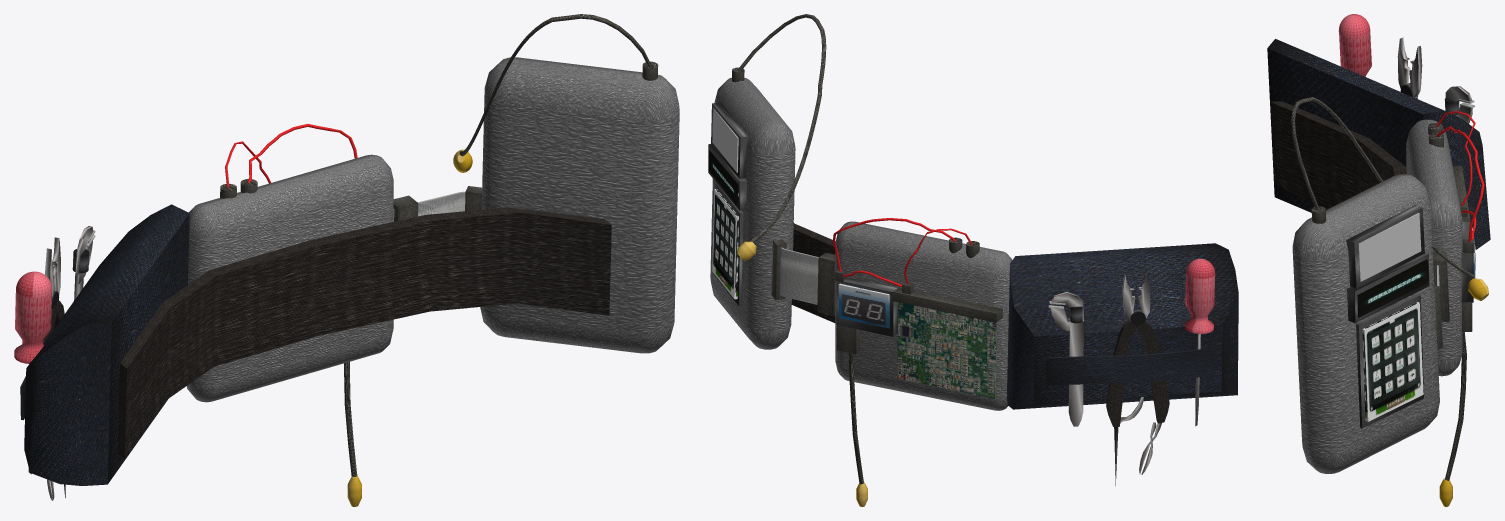
File: defkit.FBX
3 renders of one model, left to right at view 1: azimuth 30°, elevation 25°; view 2: azimuth 150°, elevation 25°; view 3: azimuth 270°, elevation 25°, orthographic. The views are drawn at different scales.
Visible parts, largest first — view 1: Box12, ChamferBox01, Box01, ChamferBox02, Cylinder01, Torus Knot01, Box11, Torus Knot03; view 2: Box01, ChamferBox02, ChamferBox01, Box02, Box25, Box08, Cylinder01, Box11, Box14, Box03, Torus Knot01, Box18 (+12 smaller); view 3: ChamferBox01, Box01, Box12, ChamferBox02, Box08, Box10, Box09, Cylinder01, Box13, Box16, Box17, Torus Knot01 (+13 smaller).
Boxes of the visible parts, left/top/right/bottom form: Box12: left=117, top=207, right=611, bottom=459; ChamferBox01: left=480, top=57, right=679, bottom=353; Box01: left=24, top=204, right=189, bottom=485; ChamferBox02: left=186, top=154, right=393, bottom=402; Cylinder01: left=14, top=271, right=52, bottom=363; Torus Knot01: left=459, top=14, right=651, bottom=156; Box11: left=393, top=191, right=465, bottom=221; Torus Knot03: left=344, top=361, right=357, bottom=476; Box01: left=1006, top=243, right=1238, bottom=409; ChamferBox02: left=835, top=221, right=1012, bottom=410; ChamferBox01: left=710, top=77, right=795, bottom=349; Box02: left=897, top=302, right=997, bottom=398; Box25: left=1045, top=348, right=1214, bottom=385; Box08: left=712, top=189, right=738, bottom=299; Cylinder01: left=1185, top=258, right=1215, bottom=333; Box11: left=771, top=243, right=818, bottom=304; Box14: left=838, top=283, right=889, bottom=328; Box03: left=892, top=288, right=1002, bottom=322; Torus Knot01: left=737, top=14, right=826, bottom=242; Box18: left=836, top=277, right=898, bottom=336; ChamferBox01: left=1292, top=174, right=1439, bottom=473; Box01: left=1267, top=39, right=1490, bottom=249; Box12: left=1270, top=101, right=1406, bottom=208; ChamferBox02: left=1406, top=119, right=1462, bottom=376; Box08: left=1362, top=302, right=1423, bottom=421; Box10: left=1358, top=213, right=1421, bottom=281; Box09: left=1357, top=259, right=1428, bottom=317; Cylinder01: left=1338, top=14, right=1371, bottom=76; Box13: left=1346, top=205, right=1424, bottom=288; Box16: left=1356, top=294, right=1423, bottom=428; Box17: left=1347, top=253, right=1429, bottom=323; Torus Knot01: left=1291, top=97, right=1474, bottom=278.
Size of the model in its own units: 30.39 by 23.16 by 10.04.
